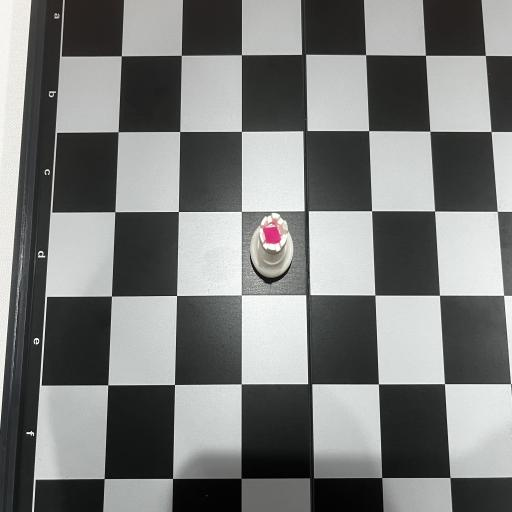White rook: (250, 213, 294, 277)
